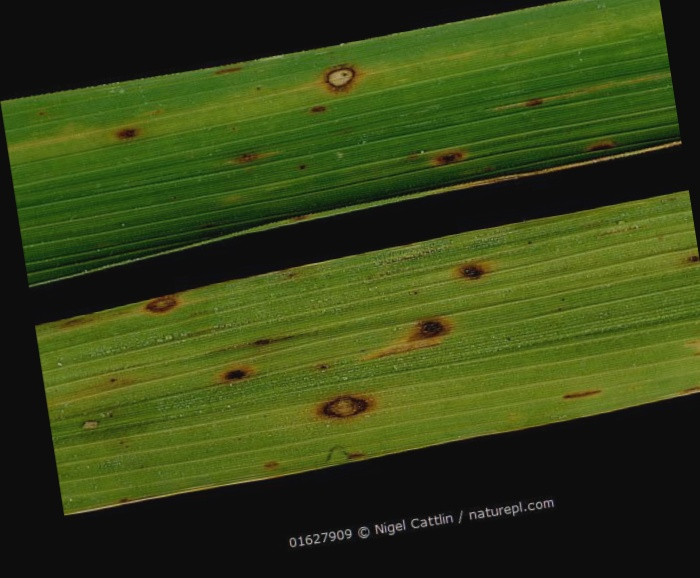Bacterial_Leaf_Blight: (361, 304, 474, 359), (303, 386, 402, 428), (416, 130, 486, 172), (445, 257, 509, 300), (199, 355, 268, 391), (128, 285, 194, 317), (319, 55, 370, 92), (104, 112, 148, 153), (221, 145, 292, 168), (557, 384, 618, 408), (669, 241, 700, 284), (61, 413, 111, 433), (250, 457, 301, 473), (516, 92, 548, 115), (205, 64, 254, 77), (579, 138, 626, 151), (304, 99, 335, 114)
